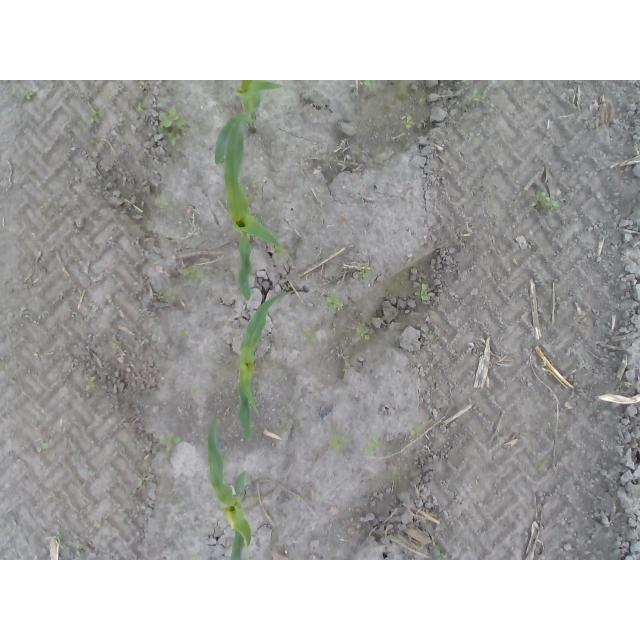Maize: (224, 118, 288, 301), (237, 294, 290, 442), (209, 417, 252, 559), (215, 80, 286, 164)
Weeds: (159, 105, 185, 144), (531, 190, 561, 215), (366, 435, 386, 458), (162, 433, 183, 453), (5, 89, 31, 103), (329, 432, 349, 450), (325, 291, 341, 313), (416, 286, 436, 303), (182, 269, 202, 286), (154, 289, 174, 304), (469, 87, 489, 101), (300, 329, 316, 344), (354, 267, 370, 281), (88, 110, 104, 124), (84, 376, 97, 393), (355, 326, 370, 340), (536, 457, 550, 471), (51, 536, 65, 549), (412, 424, 425, 436), (56, 200, 69, 212), (155, 195, 166, 209), (114, 336, 123, 352), (35, 443, 49, 453), (273, 246, 285, 257), (137, 477, 147, 490), (406, 115, 415, 129), (191, 385, 200, 399), (366, 80, 378, 90), (76, 543, 84, 558), (136, 102, 145, 115), (140, 81, 149, 92), (251, 495, 260, 505), (181, 330, 190, 338), (0, 361, 6, 370)
